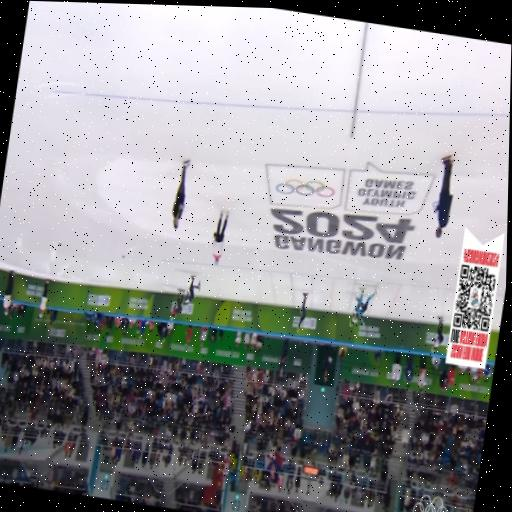Skater: (350, 288, 377, 326), (182, 274, 202, 309), (431, 315, 443, 352), (297, 291, 308, 331), (171, 289, 184, 319), (350, 308, 355, 326)
